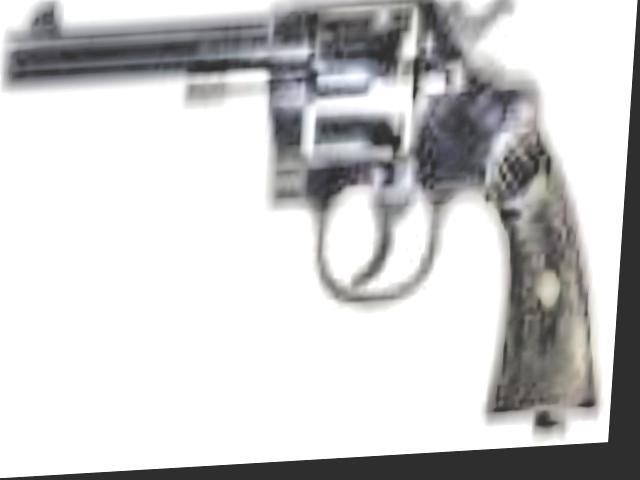pistol: (0, 0, 624, 444)
